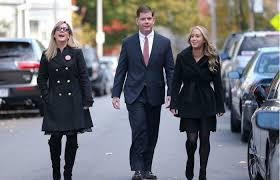Person: (119, 7, 171, 180), (37, 21, 92, 180), (174, 29, 223, 173)
